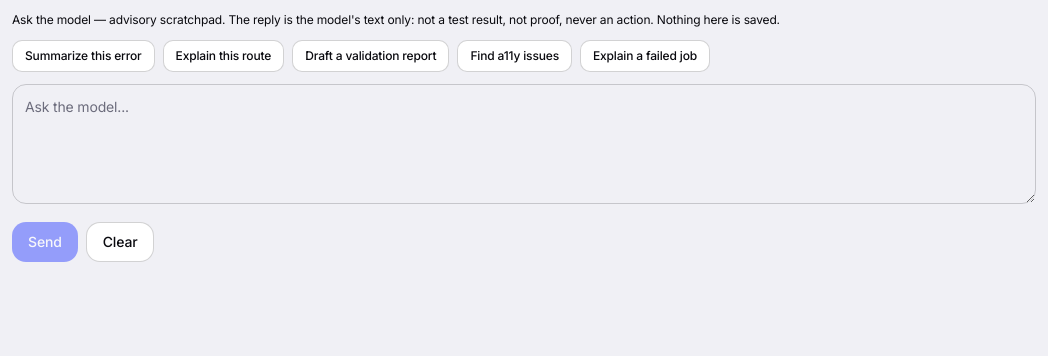
Test: AiScratchpad — 9.10 backend wiring › shows provider and latency on the response
Type "hi" into the text box named "prompt". click: (524, 144)
box: [12,84,1036,204]
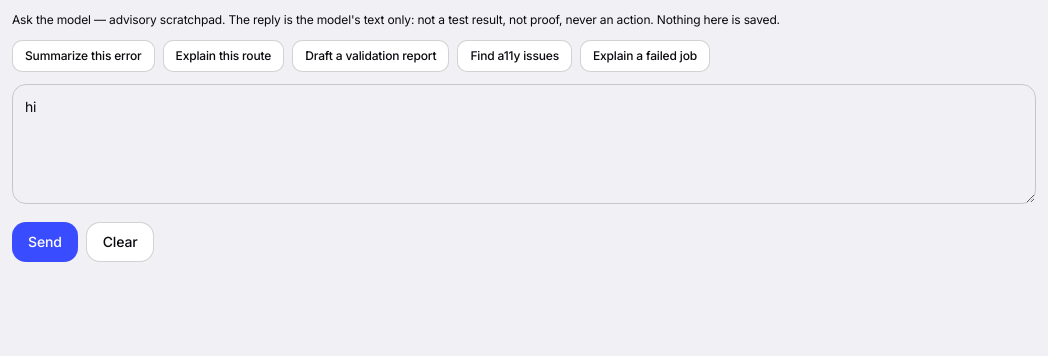
Click the button "Send". click: (45, 242)
box: [12,222,78,262]
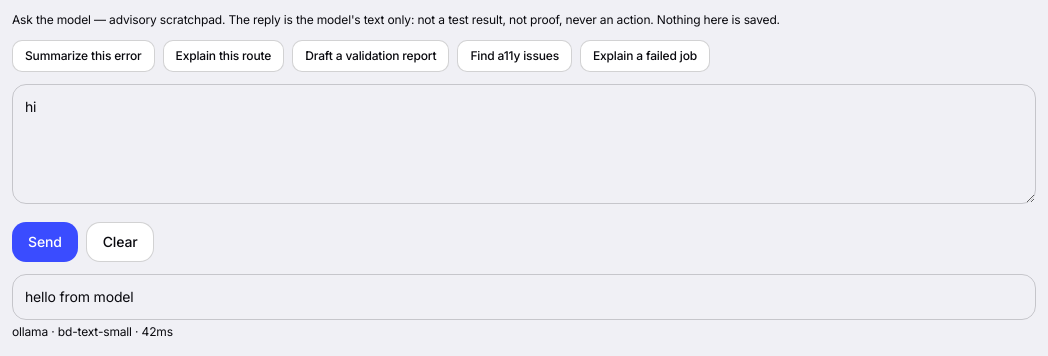
Expected: the text "hello from model" is shown, [12,274,1036,320]
Expected: the text "ollama · bd-text-small · 42ms" is shown, [12,324,173,339]
